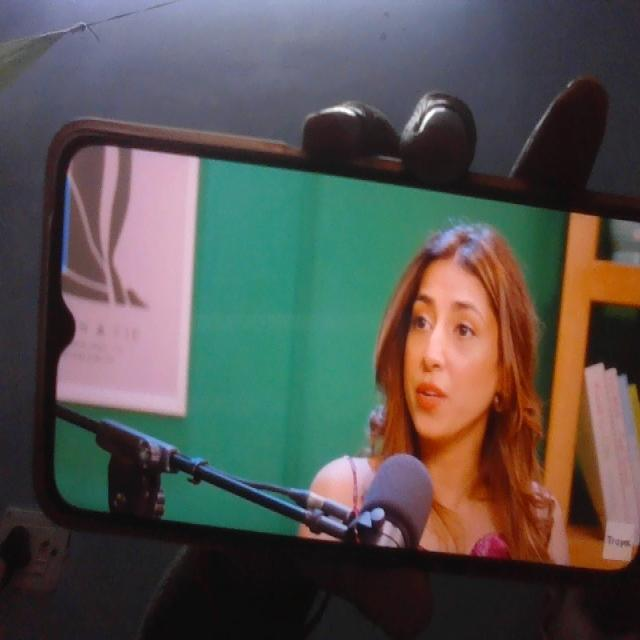fake: (393, 228, 507, 443)
